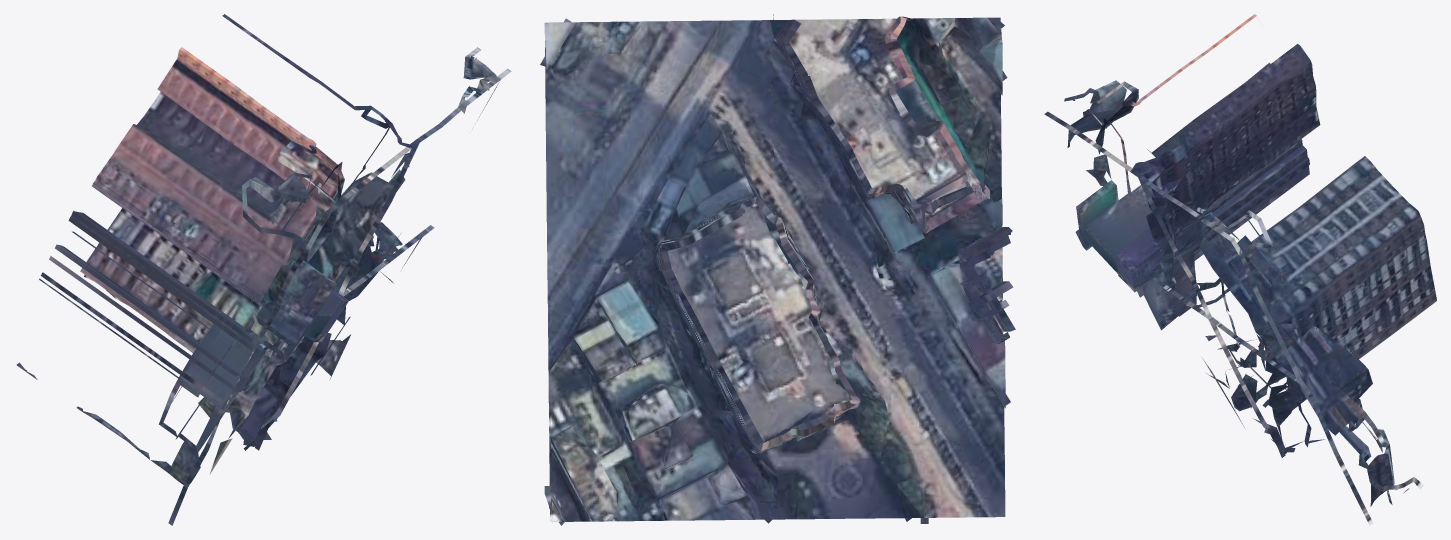
3 views of the same model, side by side, from view 1: azimuth 30°, elevation 25°; view 2: azimuth 150°, elevation 25°; view 3: azimuth 270°, elevation 25° (orthographic). The views are drawn at different scales.
Bounding box in the file's own units: 90.64 × 87.42 × 76.72.
2 materials, 2 textured.
